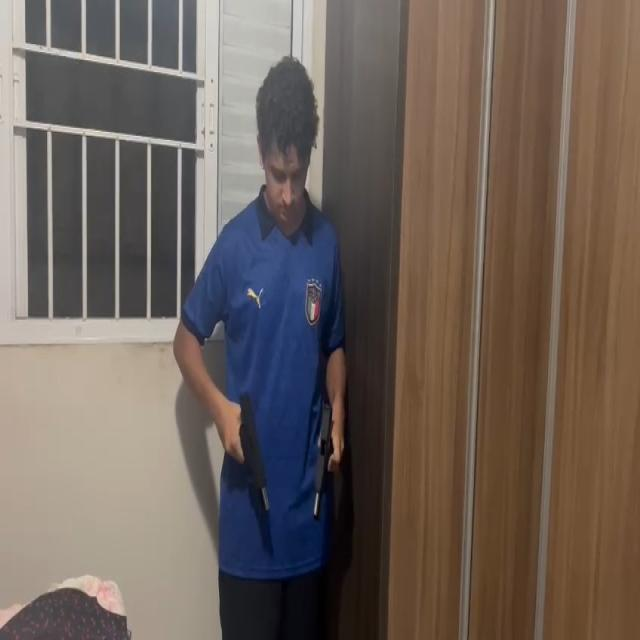guns: (240, 394, 270, 511), (312, 405, 335, 520)
